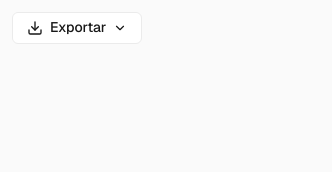
Test: ExportMenu › shows items only when their handler is passed
Click the button "Exportar".
click(77, 28)  # box x1=12 y1=12 x2=142 y2=44
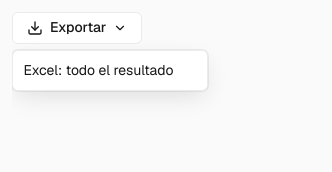
Now the number of menu items is 1, box x1=16 y1=54 x2=204 y2=86
Now the menu item reads "Excel: todo el resultado", box x1=16 y1=54 x2=204 y2=86
